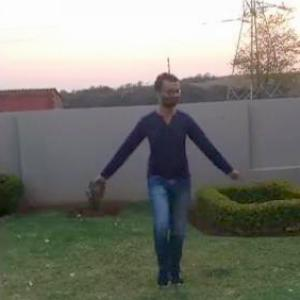land: (88, 72, 245, 290)
